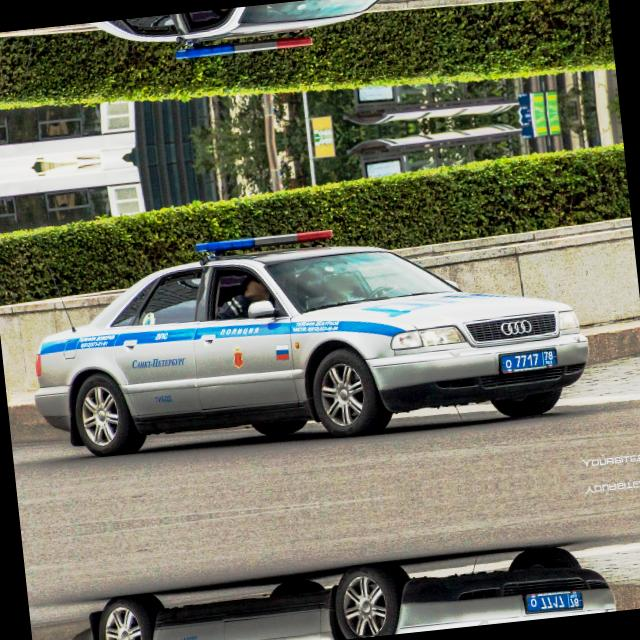police: (494, 344, 559, 375), (519, 585, 584, 616)
